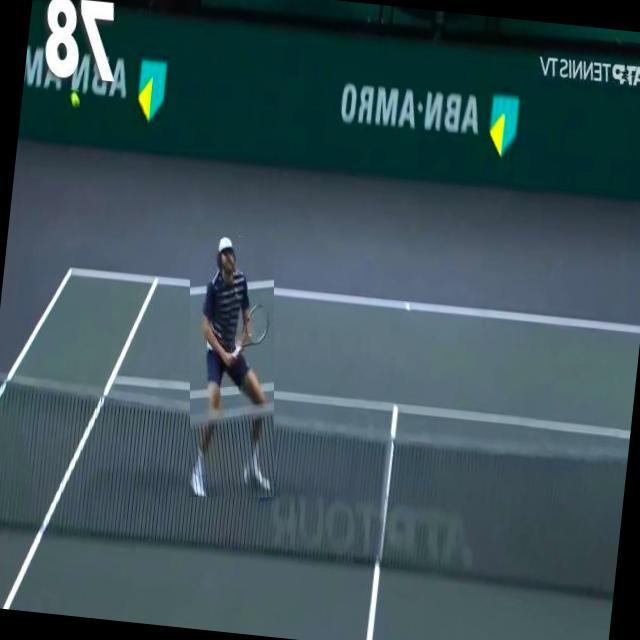elbow: (257, 326, 262, 330), (219, 323, 222, 326)
eye: (231, 251, 234, 258), (238, 254, 241, 259)
hand: (235, 356, 240, 359)
hip: (248, 356, 254, 362)
knee: (201, 398, 206, 404), (247, 408, 252, 414)
player: (191, 237, 276, 497)
shoulder: (221, 280, 226, 283), (250, 288, 255, 291)
tennis ball: (70, 90, 80, 108)
tennis racket: (196, 304, 230, 355)
